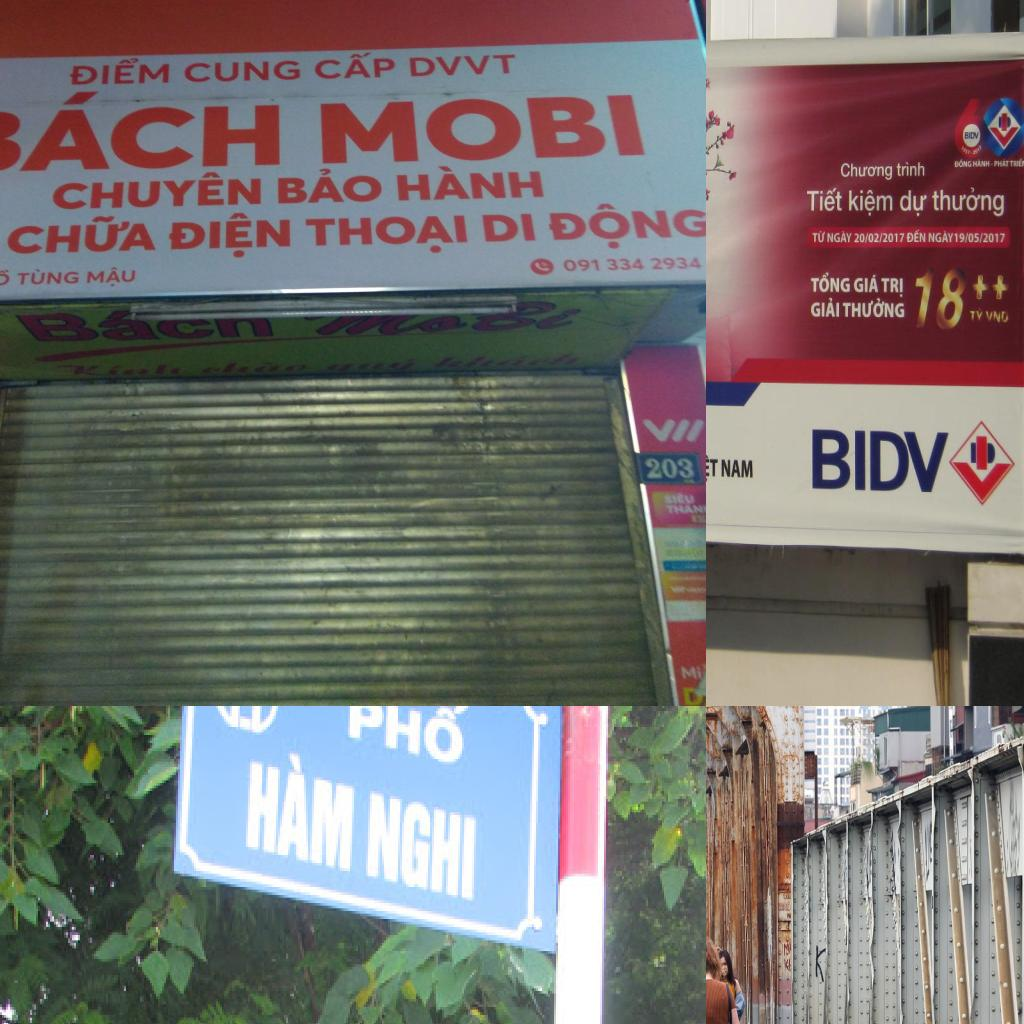text: (0, 87, 285, 176), (318, 92, 649, 166), (242, 740, 362, 882), (804, 425, 952, 499), (342, 706, 476, 777), (49, 170, 264, 212), (543, 199, 706, 253), (302, 211, 474, 257), (4, 214, 160, 259), (166, 208, 294, 260), (11, 308, 163, 347), (394, 165, 547, 203), (910, 264, 974, 338), (273, 166, 386, 206), (432, 348, 589, 370), (66, 57, 173, 86), (183, 58, 302, 84), (559, 254, 706, 274), (314, 50, 398, 83), (407, 54, 519, 78), (931, 186, 1007, 220), (61, 360, 186, 380), (199, 359, 311, 378), (479, 211, 540, 245), (639, 416, 706, 444), (322, 356, 420, 375), (846, 185, 894, 218), (841, 298, 907, 322), (155, 315, 217, 340), (807, 268, 852, 298), (18, 266, 81, 287), (644, 455, 696, 480), (804, 183, 843, 216), (897, 183, 928, 223), (838, 160, 894, 182), (954, 229, 1012, 249), (718, 454, 756, 484), (85, 266, 139, 287), (413, 314, 467, 334), (852, 231, 906, 247), (806, 296, 842, 320), (893, 160, 928, 181), (984, 305, 1010, 333), (881, 271, 905, 301), (813, 942, 828, 987), (852, 271, 880, 294), (661, 503, 706, 516), (675, 662, 706, 679), (662, 492, 698, 506), (828, 228, 854, 246), (906, 228, 929, 247), (928, 230, 954, 246), (968, 305, 985, 327), (706, 452, 718, 482), (810, 230, 828, 246), (960, 128, 980, 142), (972, 157, 992, 171), (0, 267, 13, 288), (992, 157, 1010, 171), (954, 158, 972, 171), (782, 941, 792, 958), (783, 958, 791, 974)
